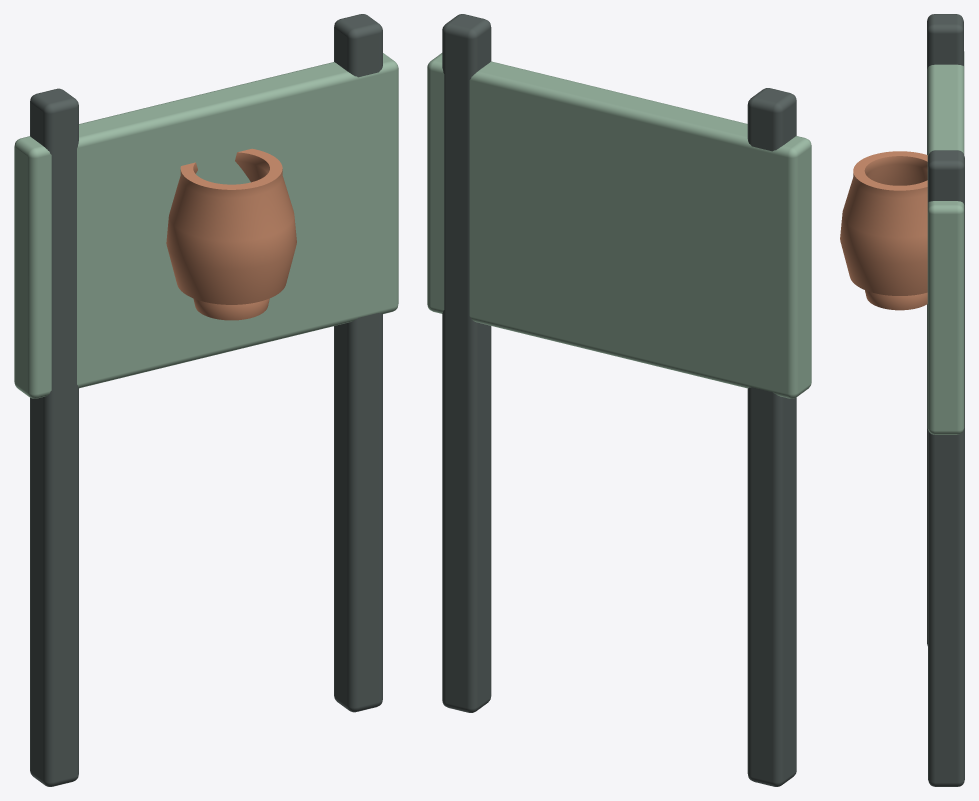
Rendered from ceramics-pottery-studio-shop-sign-d24a3f60__29530.glb.
3 renders of one model, left to right at view 1: azimuth 30°, elevation 25°; view 2: azimuth 150°, elevation 25°; view 3: azimuth 270°, elevation 25°, orthographic. The views are drawn at different scales.
Visible parts, largest first — view 1: shop-sign; view 2: shop-sign; view 3: shop-sign.
Boxes of the visible parts, bbox=[...] form: shop-sign: bbox=[14, 14, 398, 786]; shop-sign: bbox=[427, 14, 811, 786]; shop-sign: bbox=[840, 14, 964, 786].
Size of the model in its own units: 0.85 by 1.5 by 0.2712.
